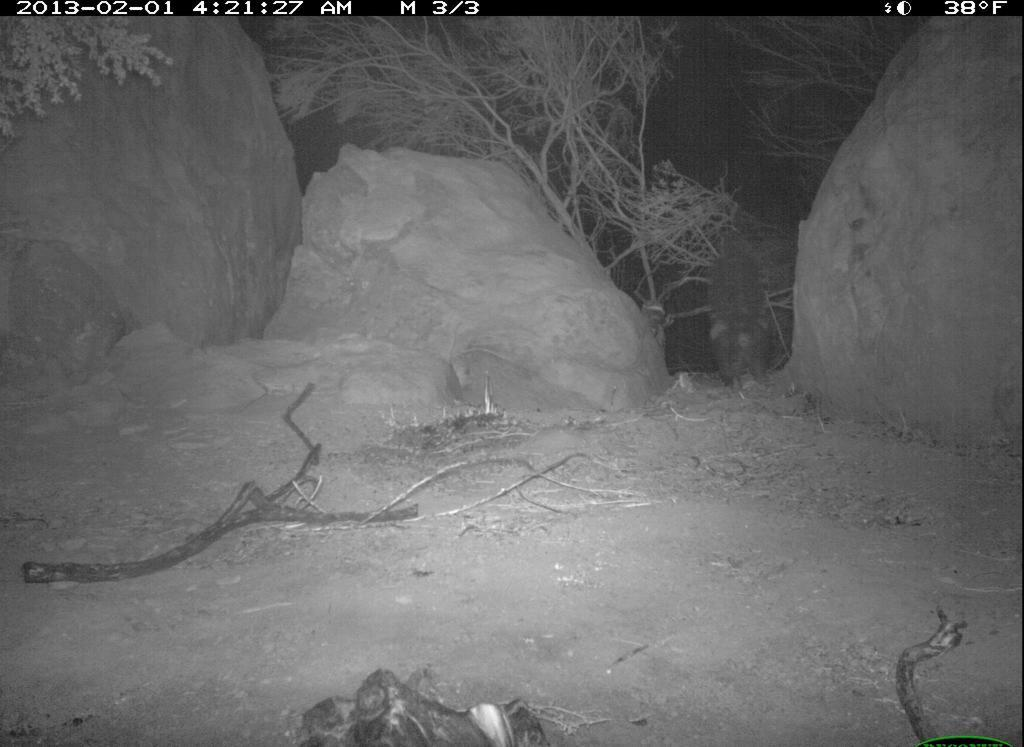skunk: (694, 235, 788, 393)
